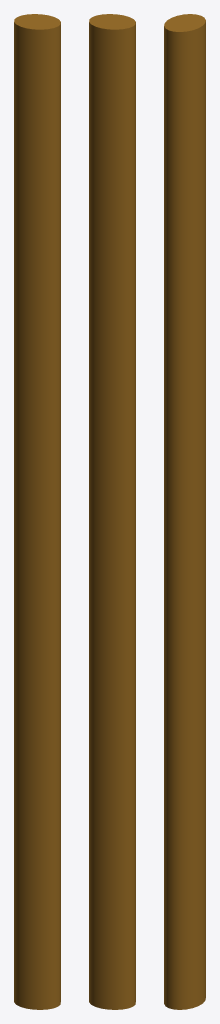
Rendered from Stalk00.fbx.
3 renders of one model, left to right at view 1: azimuth 30°, elevation 25°; view 2: azimuth 210°, elevation 25°; view 3: azimuth 270°, elevation 25°, orthographic.
Parts seen in each view (by area): view 1: polySurface30; view 2: polySurface30; view 3: polySurface30.
Part boxes in pixels (x1,y1,x2,y2): polySurface30: (14,14,60,1009); polySurface30: (89,14,135,1009); polySurface30: (164,14,205,1009).
Size of the model in its own units: 0.0273 by 0.6861 by 0.0266.
